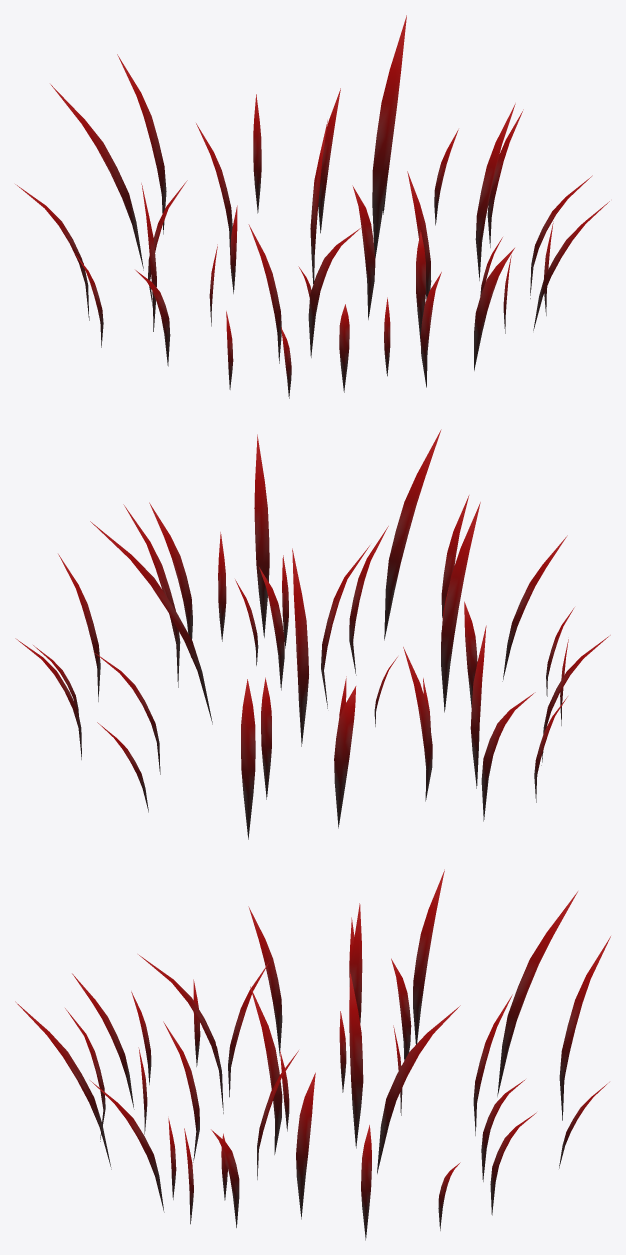
The model's file is Grass.fbx.
The picture shows the model from 3 angles, top to bottom: view 1: azimuth 30°, elevation 25°; view 2: azimuth 150°, elevation 25°; view 3: azimuth 270°, elevation 25°; orthographic projection. The views are drawn at different scales.
Visible parts, largest first — view 1: Grass; view 2: Grass; view 3: Grass.
Boxes of the visible parts, <box> form: Grass: <box>15,15,609,398</box>; Grass: <box>15,429,610,839</box>; Grass: <box>15,869,610,1240</box>.
Bounding box in the file's own units: 3.21 × 1.36 × 3.38.
